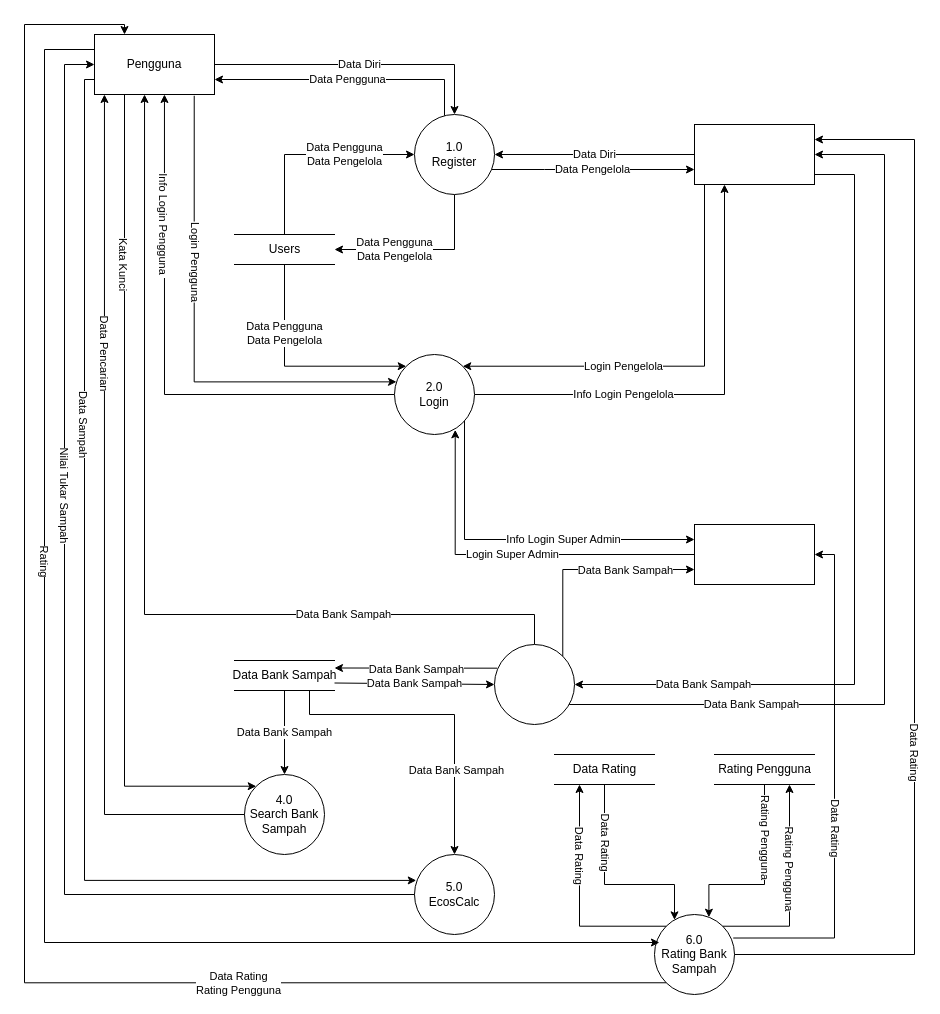
Some shapes in this 940 by 1014 pixel diagram are drawn without their labels. The centre of each missing label's shape, as x and y in pixels:
"3.0 CRUD Bank Sampah" belongs at [534,684].
"Pengelola" belongs at [754,154].
"Super Admin" belongs at [754,554].
